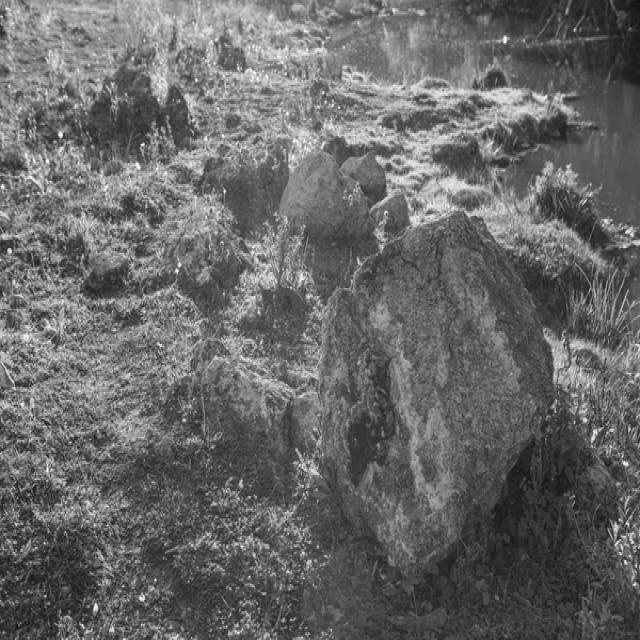Stone: (320, 211, 553, 575), (193, 339, 292, 458), (280, 149, 374, 242), (202, 139, 289, 228), (172, 219, 254, 288), (103, 63, 159, 134), (342, 152, 387, 206), (371, 192, 411, 233)
